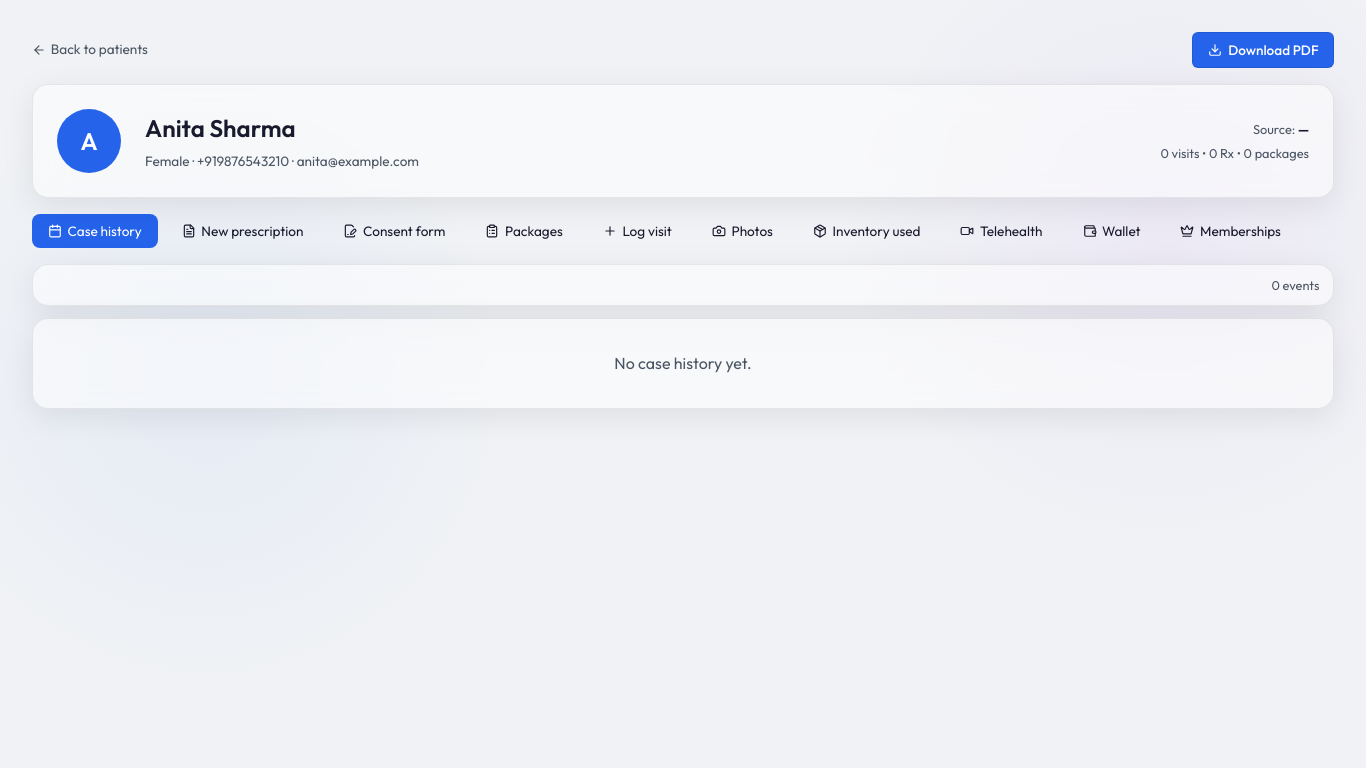
Test: <wellness/PatientDetail /> — page surface › fetches updated patient data when switching to Packages
The width and height of the screenshot is (1366, 768).
Expected: the heading "Anita Sharma" is shown, x1=145 y1=113 x2=296 y2=143
Click the button "Packages" at (524, 231), box x1=470 y1=214 x2=579 y2=248
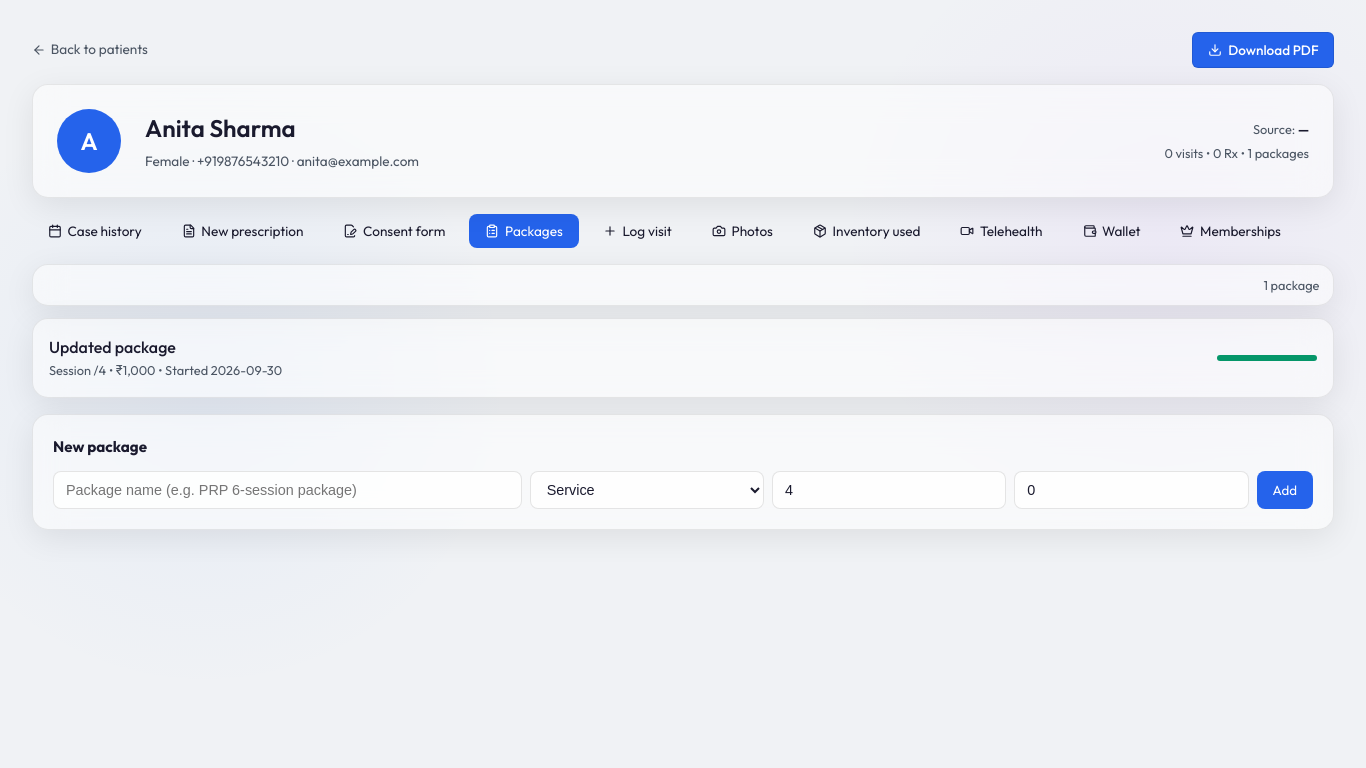
Now the text "Updated package" is shown, box x1=49 y1=337 x2=176 y2=357
